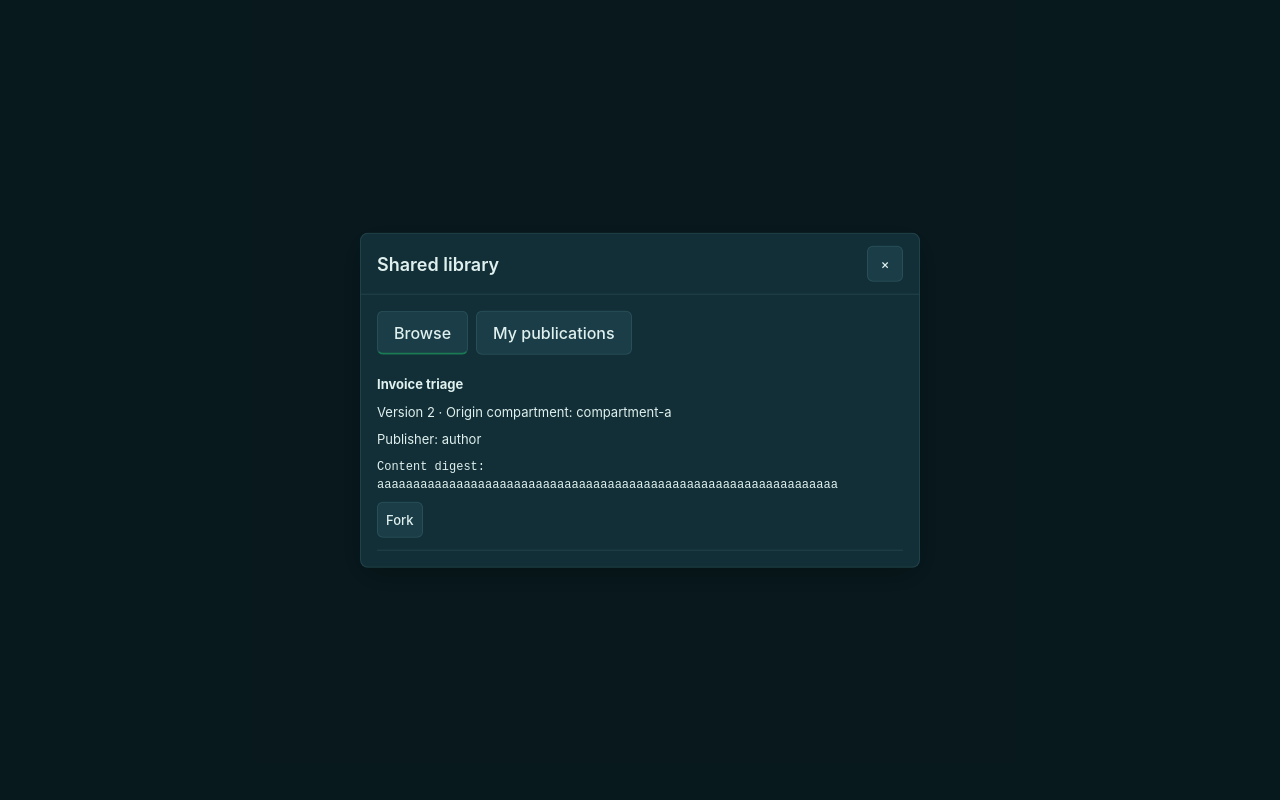
Test: LibraryDialog › does not open a recalled entry after a named fork conflict
Click the button with aria-label "Fork Invoice triage" at (400, 519), box [377,501,422,537]
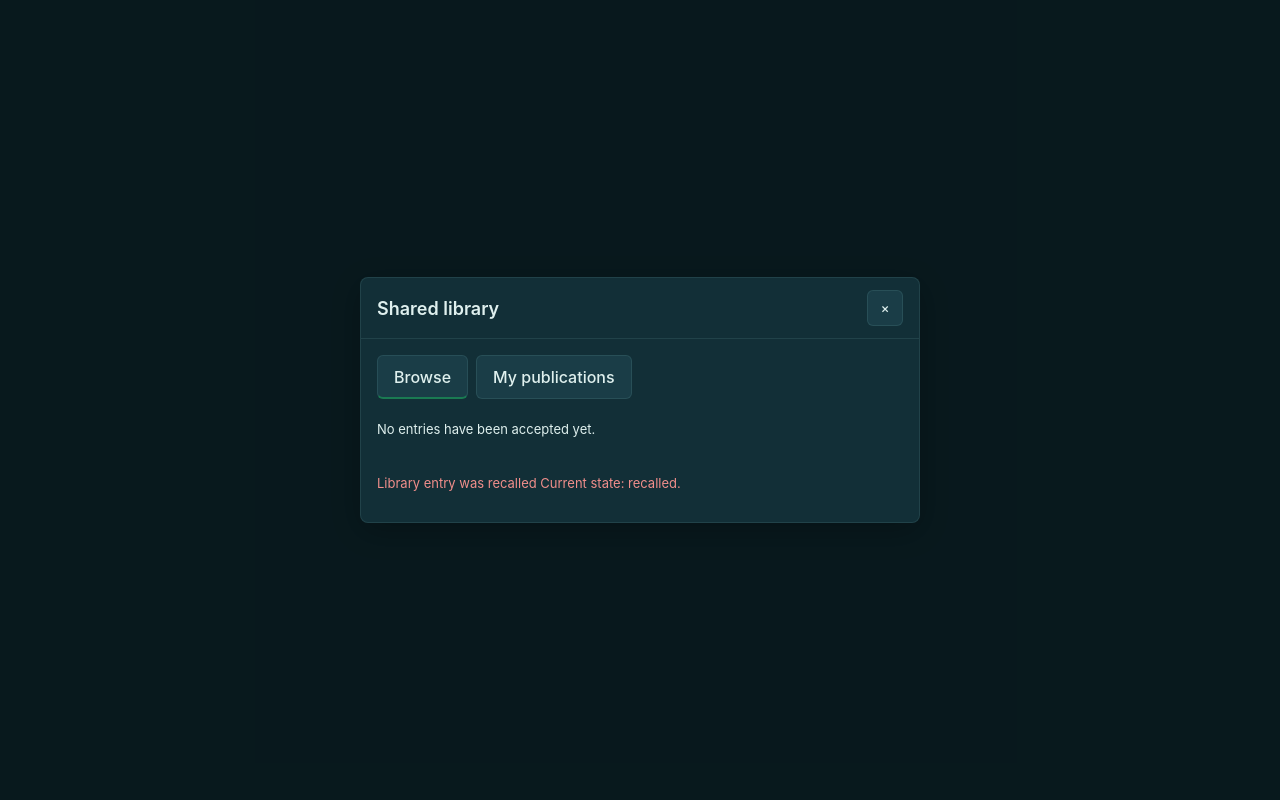
Expected: the message shows "Current state: recalled", [377,474,681,490]
